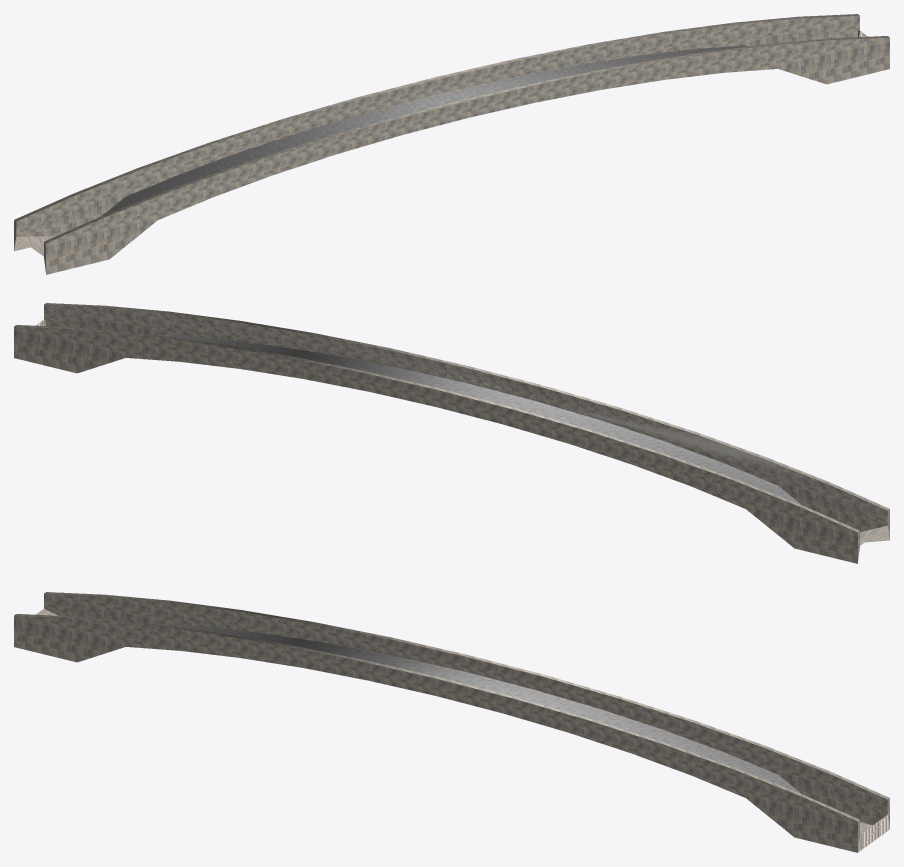
The model's file is Bridge_Short.FBX.
3 views of the same model, one above another, from view 1: azimuth 30°, elevation 25°; view 2: azimuth 150°, elevation 25°; view 3: azimuth 330°, elevation 25° (orthographic).
Visible parts, largest first — view 1: Bridge; view 2: Bridge; view 3: Bridge.
Part boxes in pixels (<box>): Bridge: <box>14,14,889,274</box>; Bridge: <box>14,303,889,563</box>; Bridge: <box>14,592,889,852</box>.
Size of the model in its own units: 5386 by 356 by 436.
2 materials, 2 textured.
